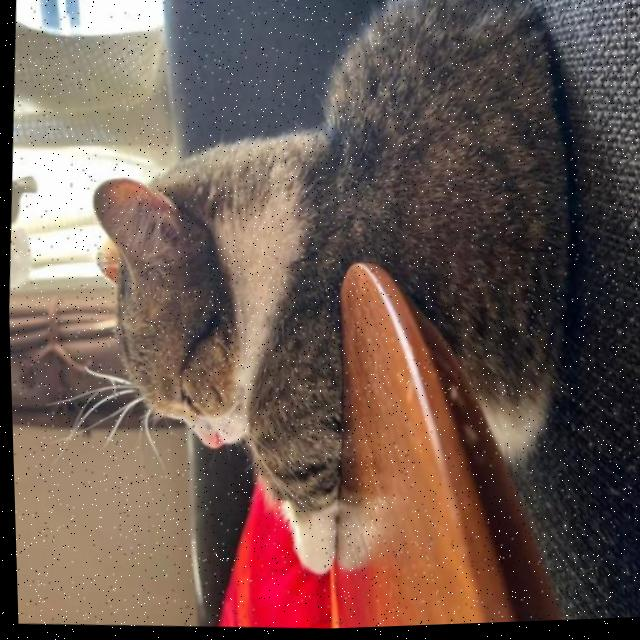Cats: (34, 0, 609, 616)
